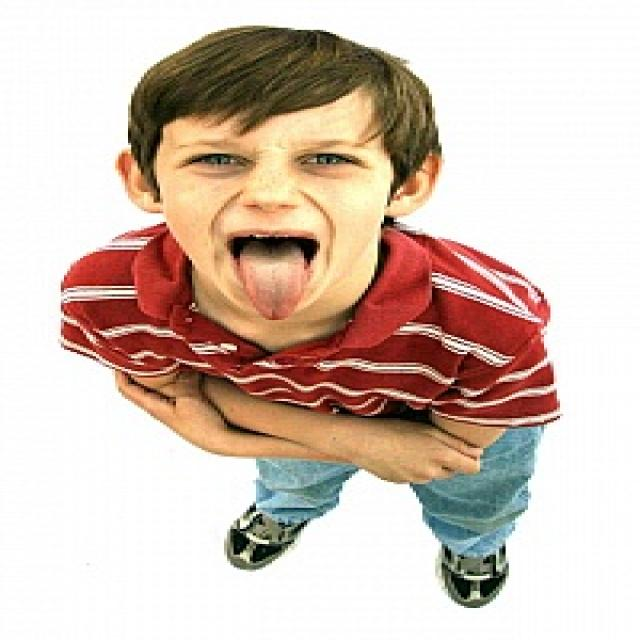Eyes: (167, 141, 381, 186)
